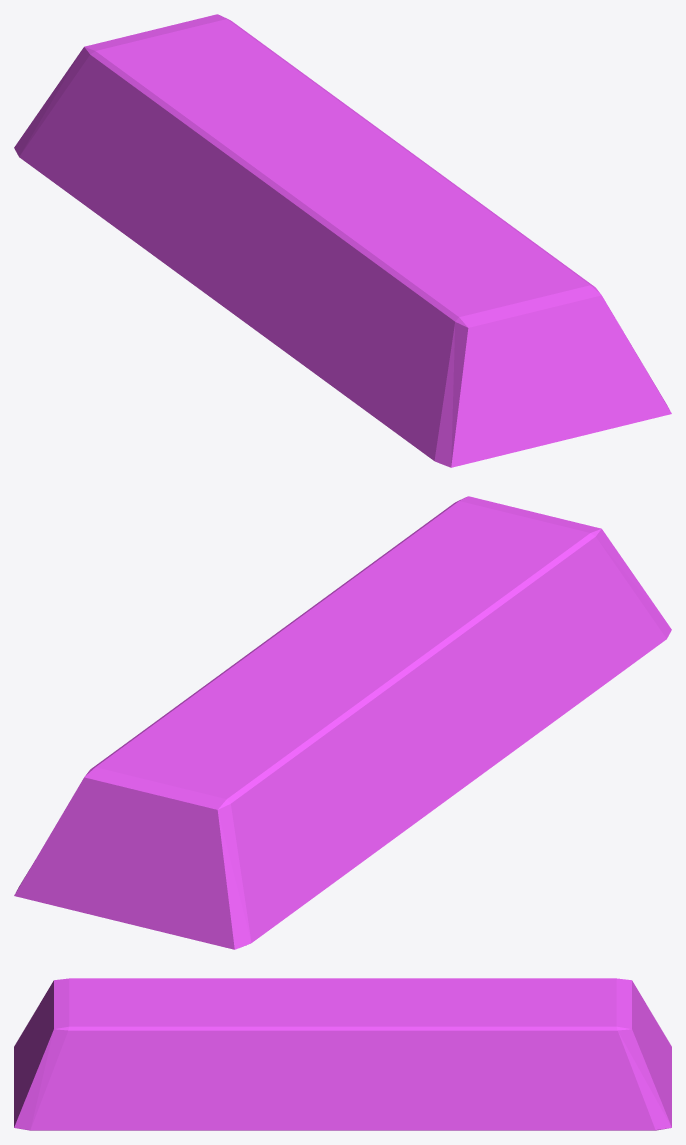
The model's file is ArcanuimIngot.fbx.
3 renders of one model, top to bottom at view 1: azimuth 30°, elevation 25°; view 2: azimuth 150°, elevation 25°; view 3: azimuth 270°, elevation 25°, orthographic. The views are drawn at different scales.
Visible parts, largest first — view 1: Ingot; view 2: Ingot; view 3: Ingot.
Part boxes in pixels (<box>): Ingot: <box>14,14,671,467</box>; Ingot: <box>14,496,671,949</box>; Ingot: <box>14,978,671,1130</box>.
Size of the model in its own units: 16.82 by 8 by 54.83.
